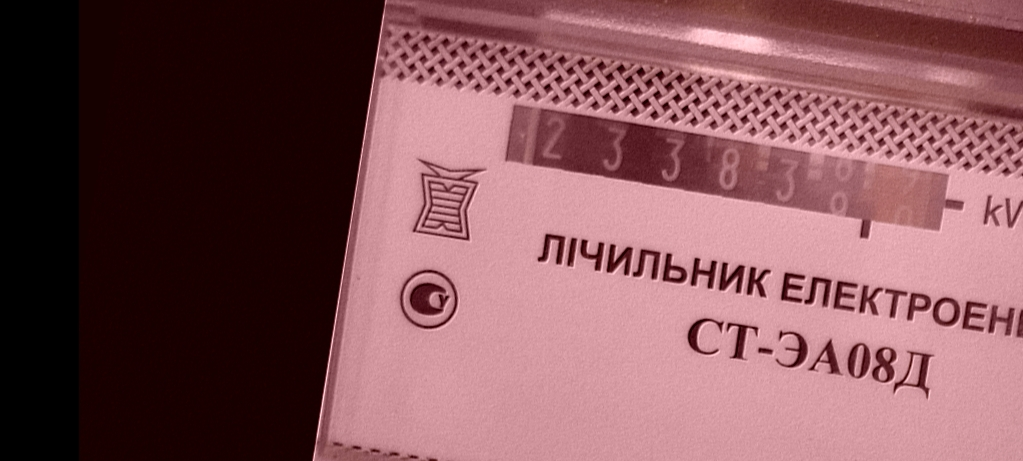0: (890, 200, 919, 229)
2: (537, 111, 572, 163)
3: (597, 123, 631, 176), (771, 153, 803, 205), (657, 134, 688, 187)
8: (714, 144, 745, 193), (829, 156, 860, 186)
9: (824, 186, 854, 219), (895, 165, 924, 197)
screen: (489, 91, 969, 255)
